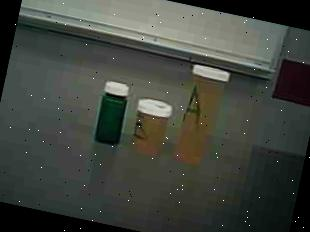Bottle A: (168, 58, 242, 173)
Bottle B: (124, 93, 176, 160)
Bottle C: (80, 73, 136, 152)
